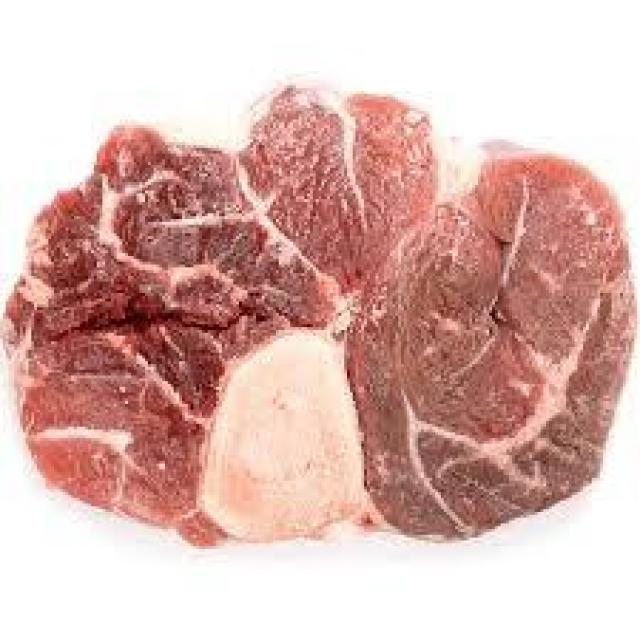beef: (24, 77, 636, 540)
